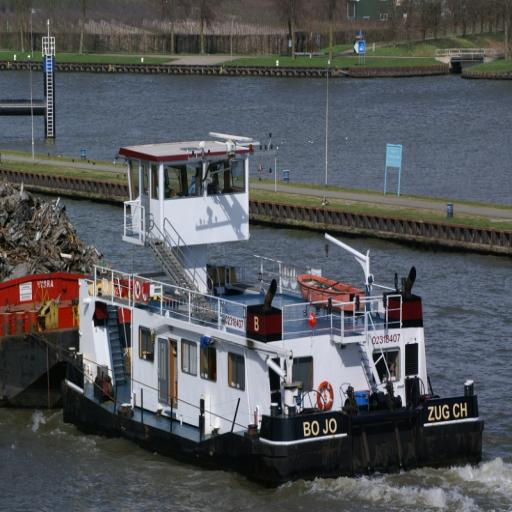tugboat: (57, 129, 490, 497)
